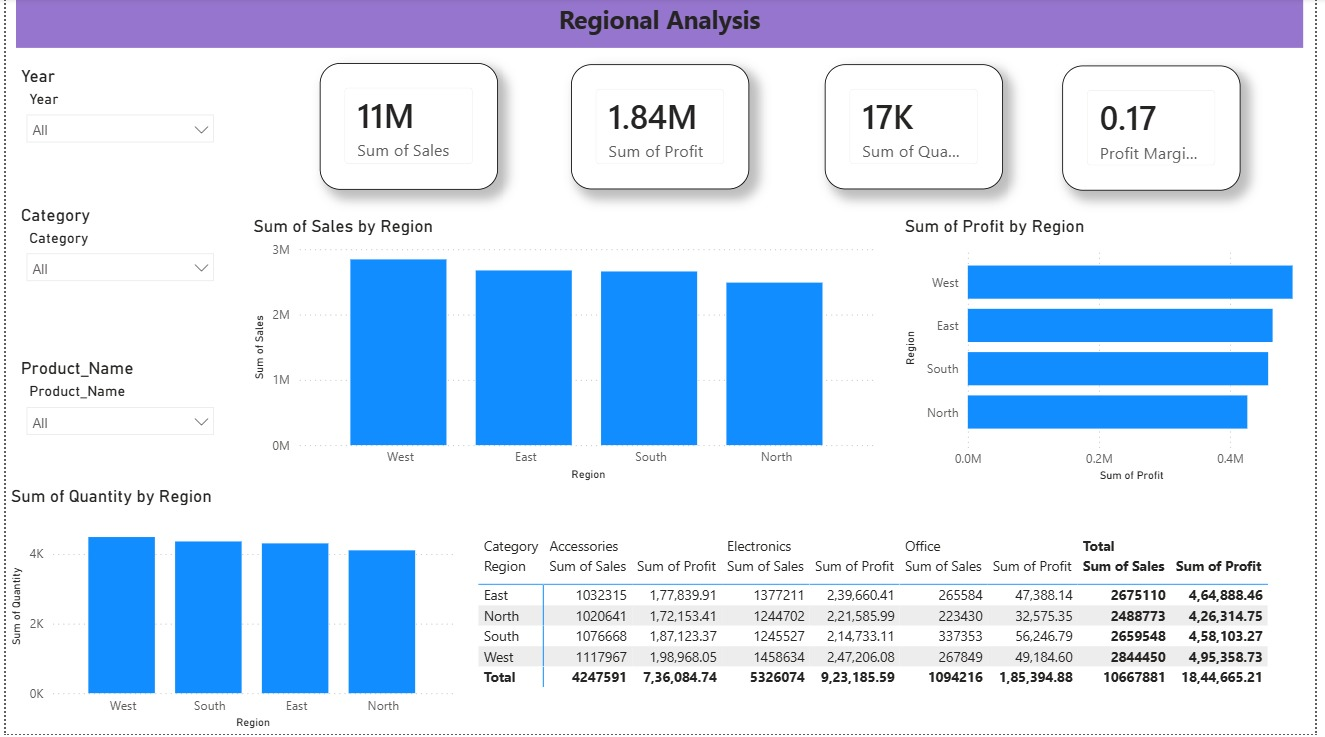

What the dashboard file says about the page in this screenshot:
{"tool":"powerbi","page":{"name":"Regional Analysis","canvas":[1280,720],"ordinal":2},"visuals":[{"type":"textbox","box":[9.8,0,1259,49],"z":0},{"type":"clusteredBarChart","fields":{"Category":["ecommerce_sales_cleaned.Region"],"Y":["Sum(ecommerce_sales_cleaned.Profit)"]},"box":[873.8,212.2,406.5,265.8],"z":1000},{"type":"clusteredColumnChart","fields":{"Y":["Sum(ecommerce_sales_cleaned.Sales)"],"Category":["ecommerce_sales_cleaned.Region"]},"box":[237.2,212.2,619.9,264.6],"z":2000},{"type":"clusteredColumnChart","fields":{"Y":["Sum(ecommerce_sales_cleaned.Quantity)"],"Category":["ecommerce_sales_cleaned.Region"]},"box":[0,476.8,442.2,243.2],"z":3000},{"type":"pivotTable","fields":{"Rows":["ecommerce_sales_cleaned.Region"],"Columns":["ecommerce_sales_cleaned.Category"],"Values":["Sum(ecommerce_sales_cleaned.Sales)","Sum(ecommerce_sales_cleaned.Profit)"]},"box":[457.7,519.7,797.5,200.3],"z":4000},{"type":"cardVisual","fields":{"Data":["Sum(ecommerce_sales_cleaned.Sales)"]},"box":[306.4,63.2,174,124],"z":5000},{"type":"cardVisual","fields":{"Data":["Sum(ecommerce_sales_cleaned.Profit)"]},"box":[553.1,64.4,174,122.8],"z":6000},{"type":"cardVisual","fields":{"Data":["Sum(ecommerce_sales_cleaned.Quantity)"]},"box":[801,64.4,174,122.8],"z":7000},{"type":"cardVisual","fields":{"Data":["ecommerce_sales_cleaned.Profit Margin %"]},"box":[1033.5,65.6,174,122.8],"z":8000},{"type":"slicer","title":"Year","fields":{"Values":["ecommerce_sales_cleaned.Year"]},"box":[9.5,65.6,203.8,126.4],"z":9000},{"type":"slicer","title":"Category","fields":{"Values":["ecommerce_sales_cleaned.Category"]},"box":[9.5,201.5,203.8,126.4],"z":10000},{"type":"slicer","title":"Product_Name","fields":{"Values":["ecommerce_sales_cleaned.Product_Name"]},"box":[9.5,351.6,203.8,126.4],"z":11000}]}

Visuals, with their boxes in screenshot pixels (x1, y1, x2, y2), scaled from the page's 1280x720 canvas onto the 1325x737 screenshot:
textbox: 10 0 1313 50
clusteredBarChart - ecommerce_sales_cleaned.Region x Sum(ecommerce_sales_cleaned.Profit): 905 217 1324 489
clusteredColumnChart - Sum(ecommerce_sales_cleaned.Sales) x ecommerce_sales_cleaned.Region: 246 217 887 488
clusteredColumnChart - Sum(ecommerce_sales_cleaned.Quantity) x ecommerce_sales_cleaned.Region: 0 488 458 736
pivotTable - ecommerce_sales_cleaned.Region x ecommerce_sales_cleaned.Category: 474 532 1299 736
cardVisual - Sum(ecommerce_sales_cleaned.Sales): 317 65 497 192
cardVisual - Sum(ecommerce_sales_cleaned.Profit): 573 66 753 192
cardVisual - Sum(ecommerce_sales_cleaned.Quantity): 829 66 1009 192
cardVisual - ecommerce_sales_cleaned.Profit Margin %: 1070 67 1250 193
"Year" slicer: 10 67 221 197
"Category" slicer: 10 206 221 336
"Product_Name" slicer: 10 360 221 489
